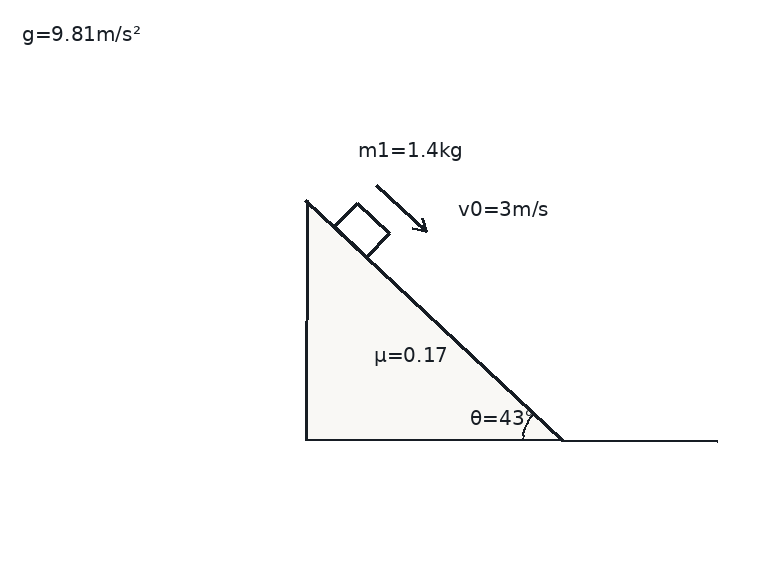block: (332, 201, 390, 259)
ramp: (304, 199, 565, 442)
